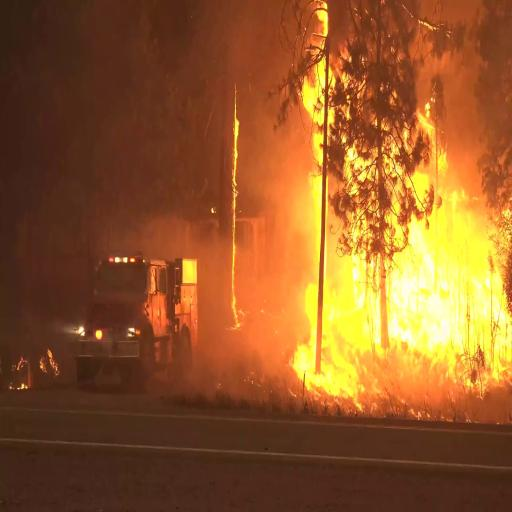fire: (320, 120, 433, 347), (392, 153, 501, 377), (300, 0, 328, 380)
